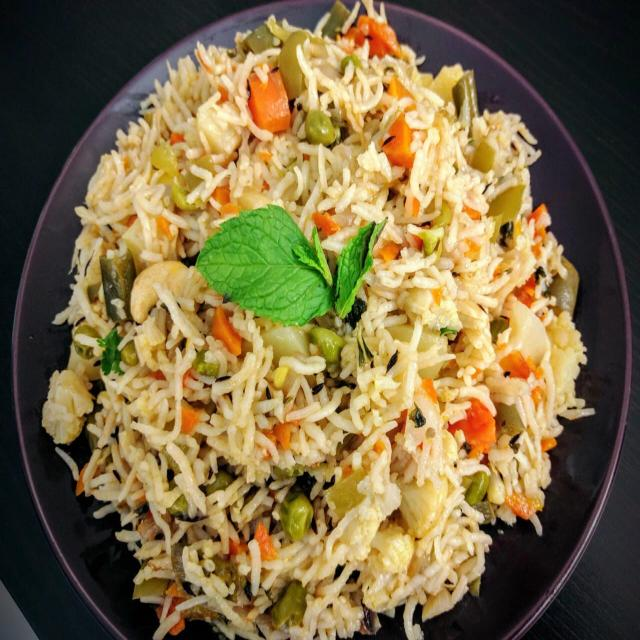veg palav: (20, 0, 601, 640)
